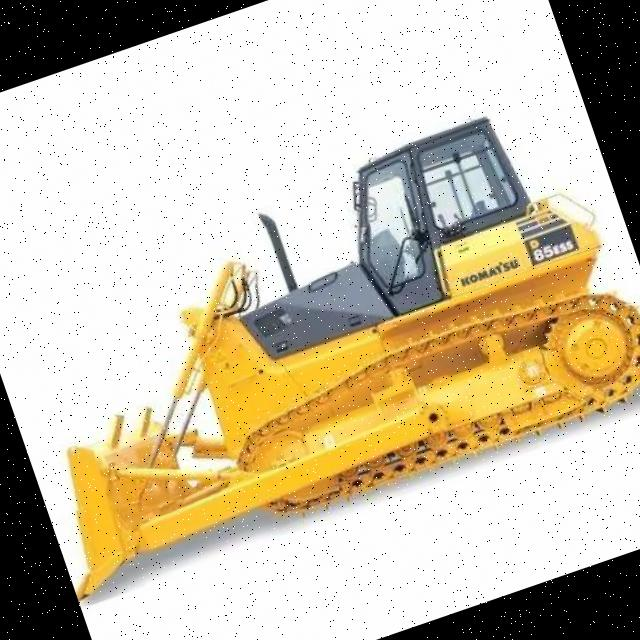Bulldozer: (0, 22, 640, 626)
